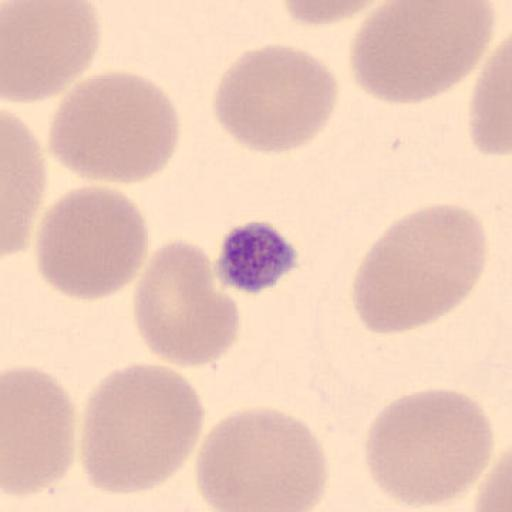Platelet: (212, 218, 300, 294)
RBC: (351, 203, 488, 333), (79, 362, 205, 497), (46, 68, 182, 186), (364, 386, 495, 508), (349, 1, 496, 105), (131, 236, 242, 370), (193, 406, 330, 512), (211, 42, 339, 155), (33, 183, 150, 302), (2, 0, 101, 104), (2, 362, 76, 500), (1, 109, 49, 259), (468, 37, 512, 158), (278, 0, 396, 25), (473, 448, 512, 512)
